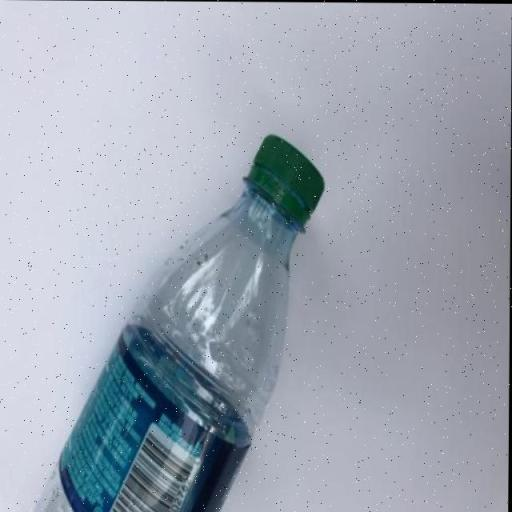plastic: (38, 129, 324, 512)
